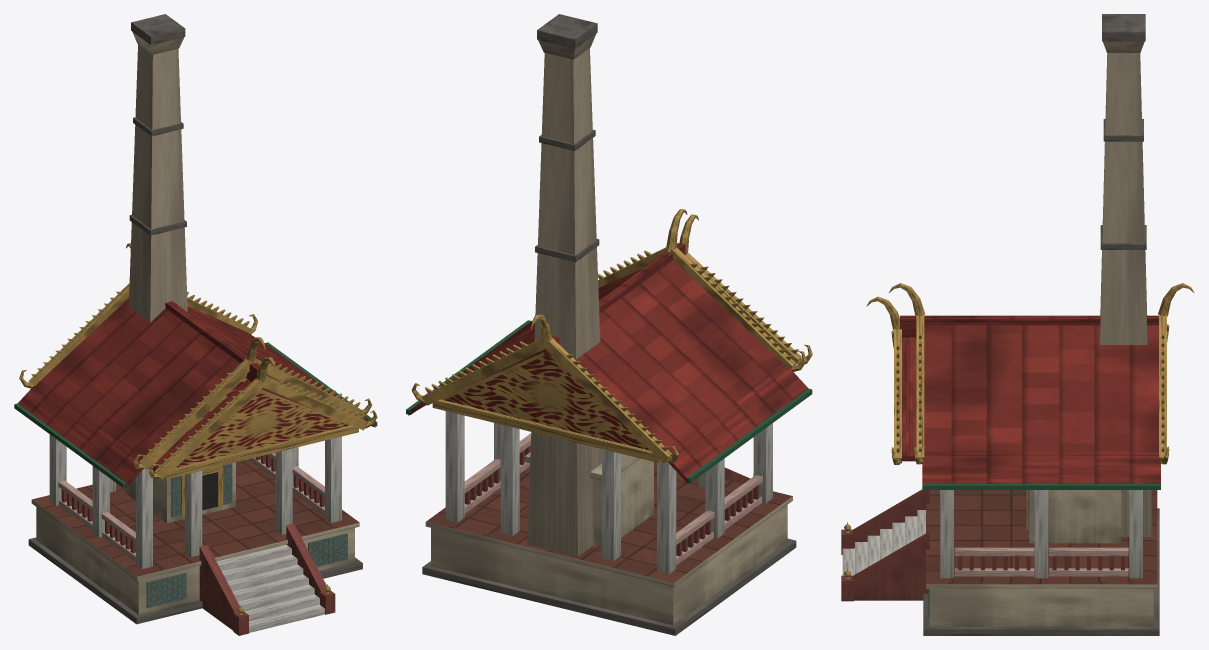
File: Meru.fbx
3 views of the same model, side by side, from view 1: azimuth 30°, elevation 25°; view 2: azimuth 150°, elevation 25°; view 3: azimuth 270°, elevation 25° (orthographic). The views are drawn at different scales.
Visible parts, largest first — view 1: Meru_Roof, Meru_Base, Meru_Chimney, Meru_Hall; view 2: Meru_Roof, Meru_Base, Meru_Chimney, Meru_Hall; view 3: Meru_Roof, Meru_Base, Meru_Chimney, Meru_Hall.
Boxes of the visible parts, x1,y1,x2,y2 form: Meru_Roof: [14, 243, 377, 488]; Meru_Base: [28, 456, 362, 635]; Meru_Chimney: [128, 14, 187, 322]; Meru_Hall: [49, 434, 341, 568]; Meru_Roof: [406, 209, 812, 483]; Meru_Base: [422, 446, 796, 635]; Meru_Chimney: [527, 14, 601, 556]; Meru_Hall: [445, 411, 772, 573]; Meru_Roof: [866, 283, 1194, 489]; Meru_Base: [841, 489, 1159, 635]; Meru_Chimney: [1100, 14, 1152, 536]; Meru_Hall: [940, 490, 1142, 578].
Size of the model in its own units: 831 by 1578 by 914.
Materials: 1 (1 with a texture image).
